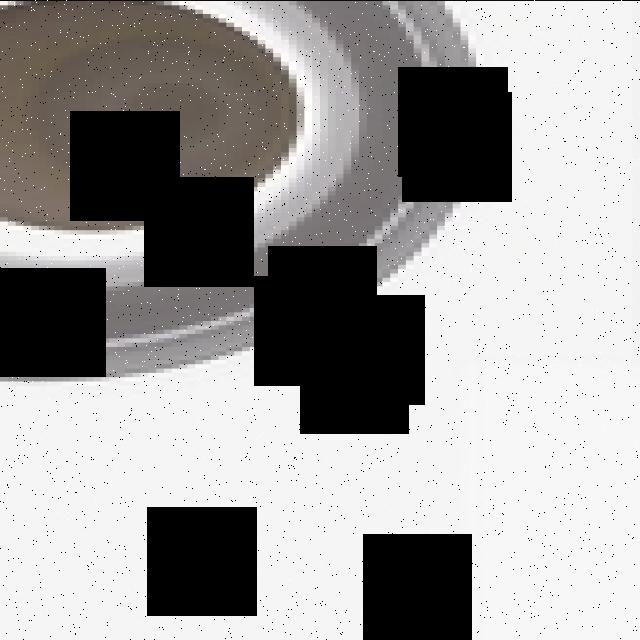Saturn: (0, 1, 484, 380)
